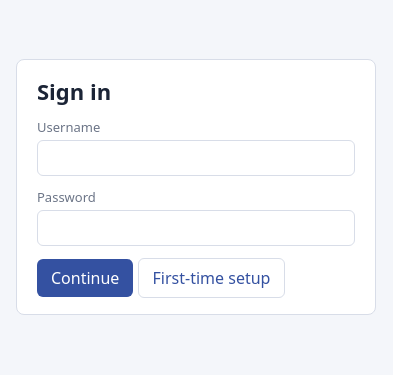
Test: LoginPage › lets the first-time setup flow create an admin and returns to login
Expected: the heading "Sign in" is shown, 37,76 -> 111,106
Click the button "First-time setup": x=212, y=278 138,258 -> 286,298
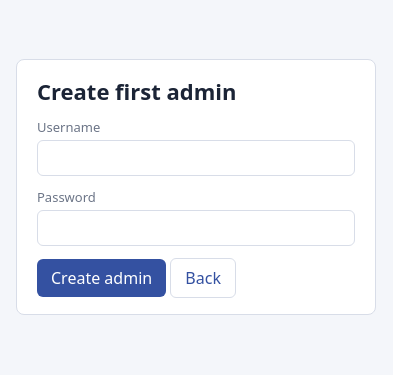
In the field labelled "Username": x=196, y=158 37,140 -> 355,176, type "admin"
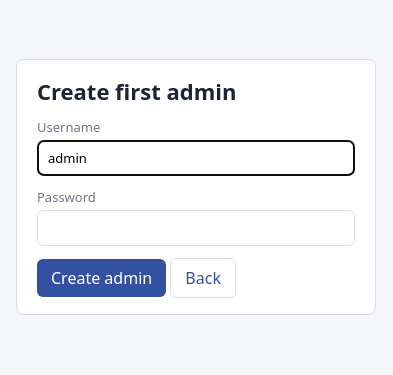
In the password field labelled "Password": x=196, y=228 37,210 -> 355,246, type "strong-pass-1"
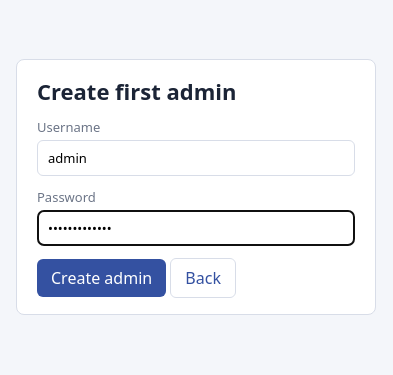
Click the button "Create admin": x=102, y=278 37,259 -> 166,297
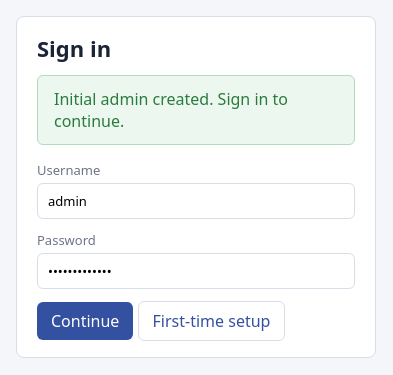
Result: the text "Initial admin created. Sign in to continue." is shown at 37,75 -> 355,145
Result: the heading "Sign in" is shown at 37,33 -> 111,63
